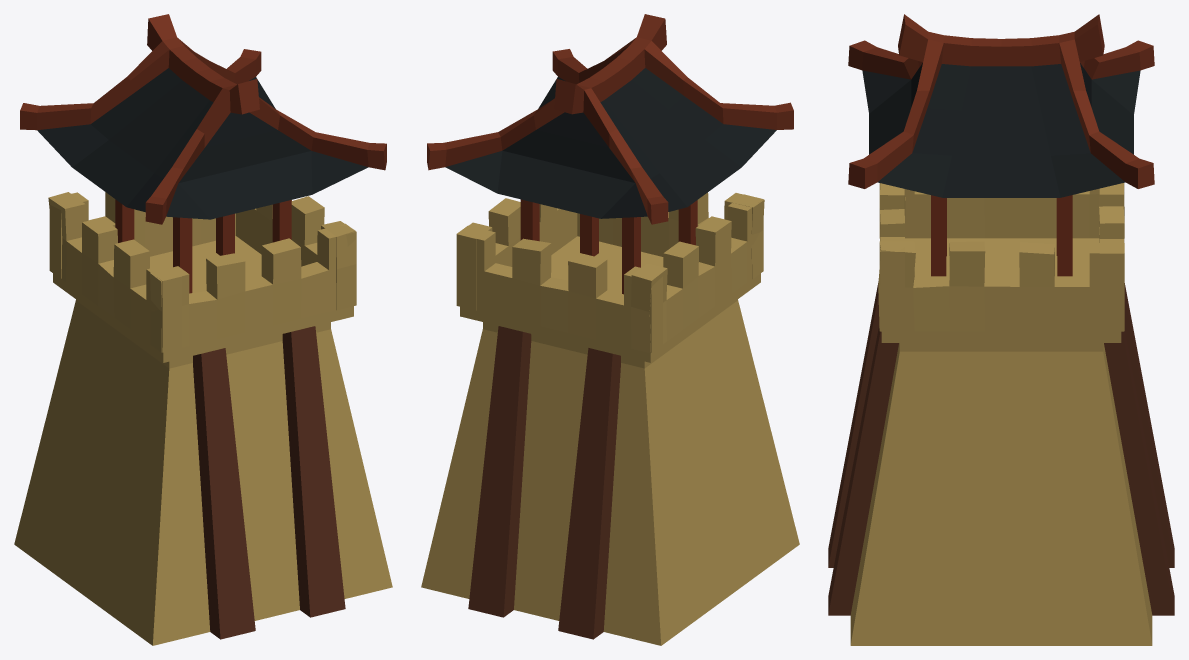
Rendered from smoketower001.fbx.
3 renders of one model, left to right at view 1: azimuth 30°, elevation 25°; view 2: azimuth 150°, elevation 25°; view 3: azimuth 270°, elevation 25°, orthographic. The views are drawn at different scales.
Parts seen in each view (by area): view 1: smoketower; view 2: smoketower; view 3: smoketower.
Boxes of the visible parts, x1,y1,x2,y2 form: smoketower: (14,14,392,645); smoketower: (421,14,799,645); smoketower: (828,14,1174,645).
Bounding box in the file's own units: 1233 × 2527 × 1410.
